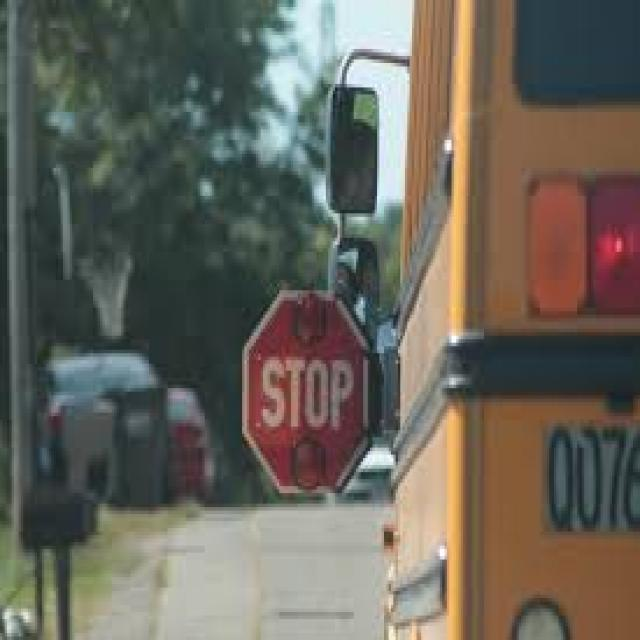stop-sign: (244, 274, 375, 508)
